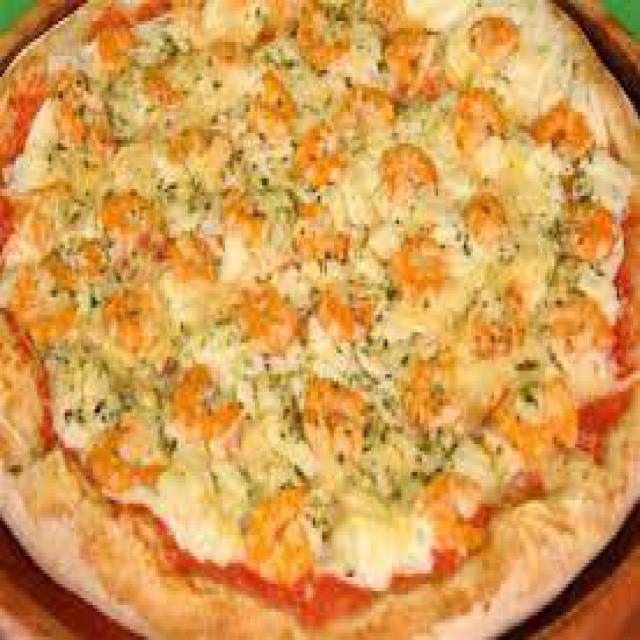camarao: (239, 485, 317, 586), (294, 374, 365, 480), (88, 417, 172, 500), (383, 226, 446, 309), (374, 137, 438, 217), (95, 191, 172, 255), (471, 277, 528, 363), (292, 0, 362, 70), (235, 284, 297, 363), (448, 82, 505, 152), (241, 67, 296, 134)
pizza: (0, 0, 638, 637)
